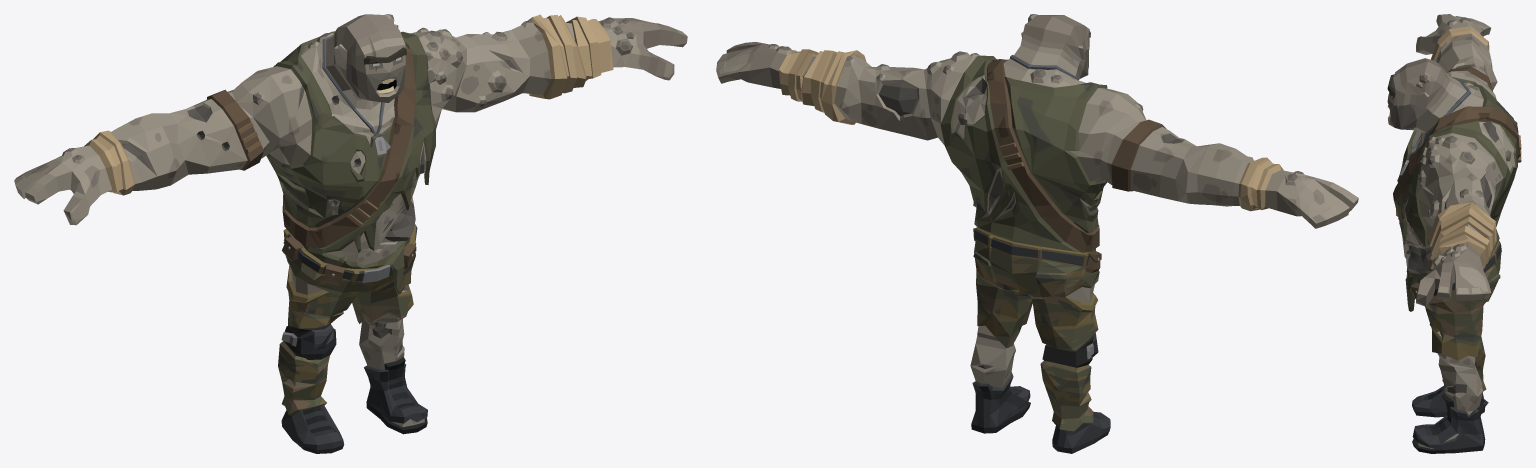
Rendered from Boss Enemy.fbx.
The picture shows the model from 3 angles, left to right: view 1: azimuth 30°, elevation 25°; view 2: azimuth 150°, elevation 25°; view 3: azimuth 270°, elevation 25°; orthographic projection. The views are drawn at different scales.
Parts seen in each view (by area): view 1: SM_Chr_ZombieBoss_Brute_01; view 2: SM_Chr_ZombieBoss_Brute_01; view 3: SM_Chr_ZombieBoss_Brute_01.
Part boxes in pixels (x1,y1,x2,y2): SM_Chr_ZombieBoss_Brute_01: (14, 14, 687, 453); SM_Chr_ZombieBoss_Brute_01: (716, 14, 1358, 453); SM_Chr_ZombieBoss_Brute_01: (1387, 14, 1521, 453).
Bounding box in the file's own units: 300 × 185 × 61.11.
